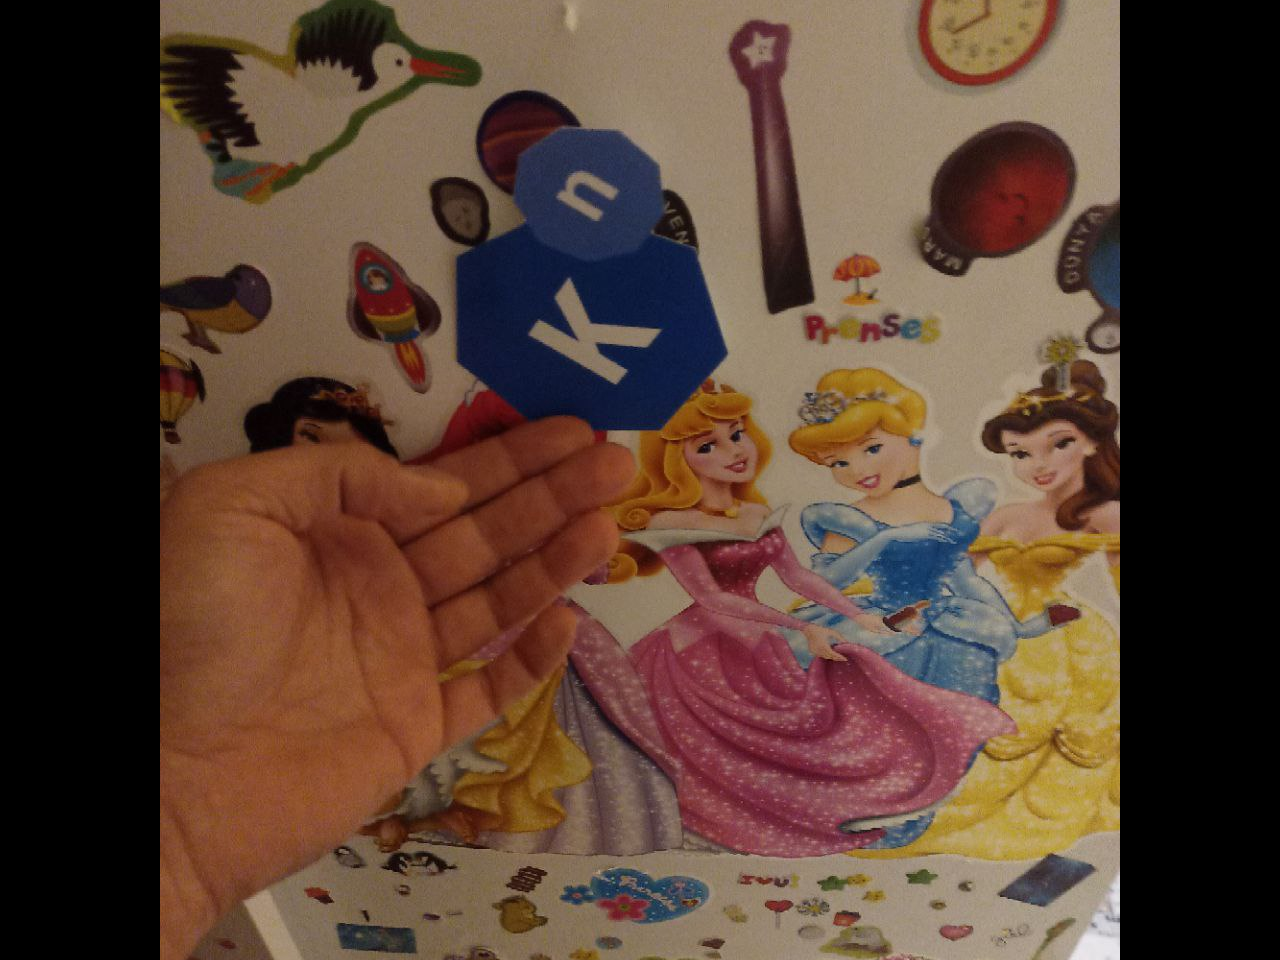knative: (454, 129, 729, 431)
